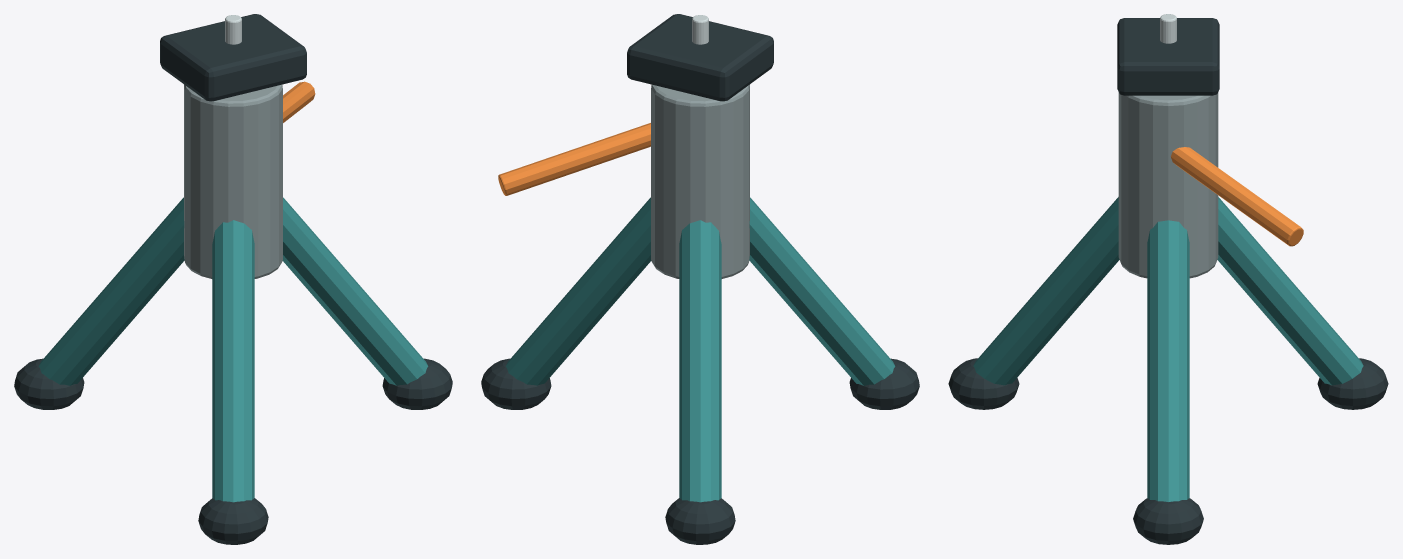
File: P059_tabletop_tripod.glb
3 views of the same model, side by side, from view 1: azimuth 30°, elevation 25°; view 2: azimuth 150°, elevation 25°; view 3: azimuth 270°, elevation 25° (orthographic).
Visible parts, largest first — view 1: P059_hub_001, P059_leg_008, P059_mount_002, P059_leg_006, P059_leg_004, P059_foot_009, P059_foot_005, P059_foot_007, P059_tilt_arm_010; view 2: P059_hub_001, P059_leg_006, P059_mount_002, P059_leg_008, P059_leg_004, P059_tilt_arm_010, P059_foot_007, P059_foot_005, P059_foot_009; view 3: P059_hub_001, P059_leg_004, P059_leg_006, P059_leg_008, P059_mount_002, P059_tilt_arm_010, P059_foot_005, P059_foot_007, P059_foot_009.
Boxes of the visible parts, <box> form: P059_hub_001: <box>184,84,282,278</box>; P059_leg_008: <box>212,220,254,502</box>; P059_mount_002: <box>160,14,306,101</box>; P059_leg_006: <box>38,197,184,385</box>; P059_leg_004: <box>282,197,428,385</box>; P059_foot_009: <box>198,498,268,544</box>; P059_foot_005: <box>382,358,452,409</box>; P059_foot_007: <box>14,358,84,409</box>; P059_tilt_arm_010: <box>283,81,315,122</box>; P059_hub_001: <box>651,84,749,278</box>; P059_leg_006: <box>679,220,721,502</box>; P059_mount_002: <box>627,14,773,101</box>; P059_leg_008: <box>749,197,895,385</box>; P059_leg_004: <box>505,197,651,385</box>; P059_tilt_arm_010: <box>498,123,650,195</box>; P059_foot_007: <box>665,498,735,544</box>; P059_foot_005: <box>481,358,551,409</box>; P059_foot_009: <box>849,358,919,409</box>; P059_hub_001: <box>1118,92,1218,278</box>; P059_leg_004: <box>1147,220,1189,501</box>; P059_leg_006: <box>1217,197,1363,385</box>; P059_leg_008: <box>973,197,1119,385</box>; P059_mount_002: <box>1117,18,1219,95</box>; P059_tilt_arm_010: <box>1171,147,1303,246</box>; P059_foot_005: <box>1133,498,1203,544</box>; P059_foot_007: <box>1317,358,1388,409</box>; P059_foot_009: <box>948,358,1019,409</box>.
Size of the model in its own units: 0.275 by 0.337 by 0.3098.
